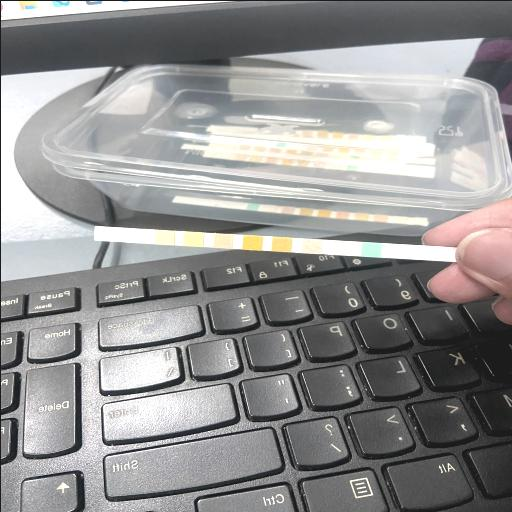Bilirubin: (331, 241, 349, 253)
Blood: (243, 236, 261, 248)
Glucose: (362, 242, 380, 256)
Ketone: (302, 240, 320, 252)
Leukocytes: (94, 226, 112, 238)
Nitrite: (126, 228, 144, 242)
Protein: (184, 232, 202, 244)
SpGravity: (271, 238, 290, 250)
Urobilinogen: (155, 230, 173, 243)
pH: (214, 234, 232, 246)
strip: (94, 225, 453, 260)
